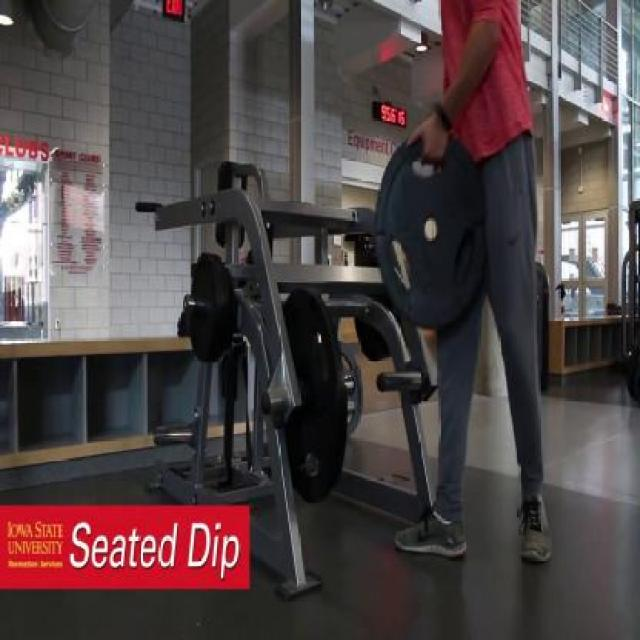seated dip machine: (137, 163, 434, 508)
